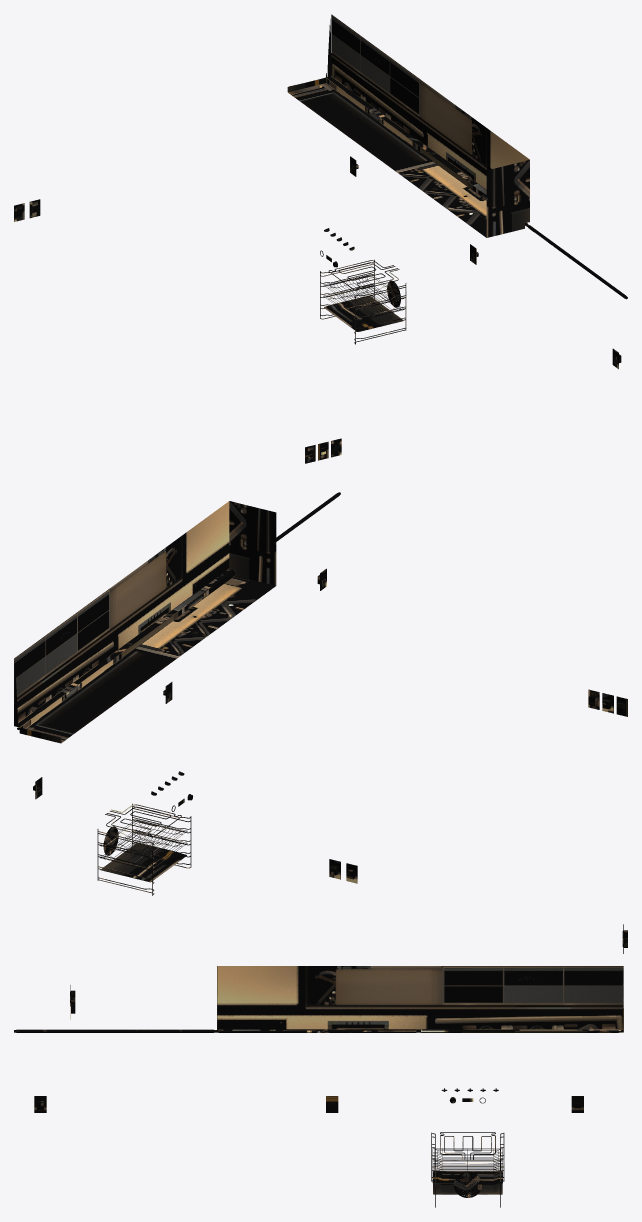
The model's file is simple_house_-_kitchen_0.obj.
3 views of the same model, one above another, from view 1: azimuth 30°, elevation 25°; view 2: azimuth 150°, elevation 25°; view 3: azimuth 270°, elevation 25° (orthographic). The views are drawn at different scales.
Size of the model in its own units: 2.46 by 1.8 by 4.
